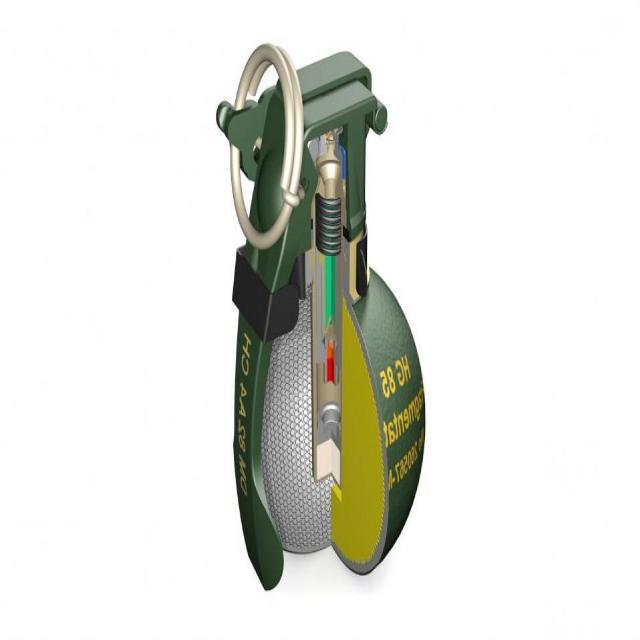Grenade: (215, 42, 426, 592)
